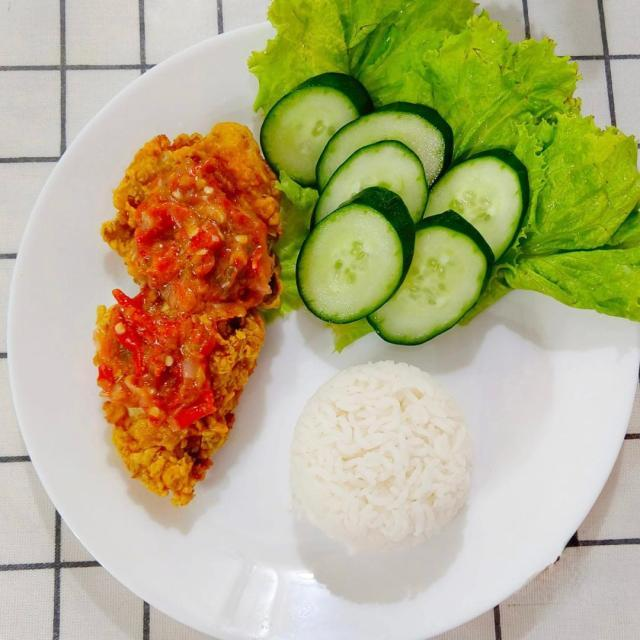Chicken: (96, 124, 286, 509)
Plate: (8, 26, 639, 639)
Rice: (289, 359, 473, 610)
Vegetables: (243, 3, 638, 354)
